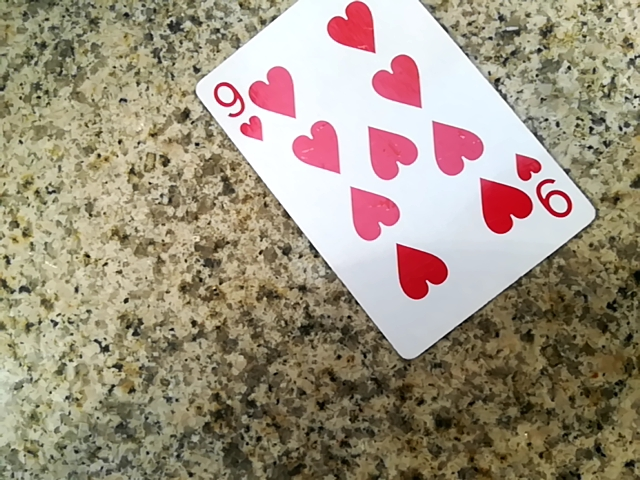hx 9: (194, 0, 590, 352)
